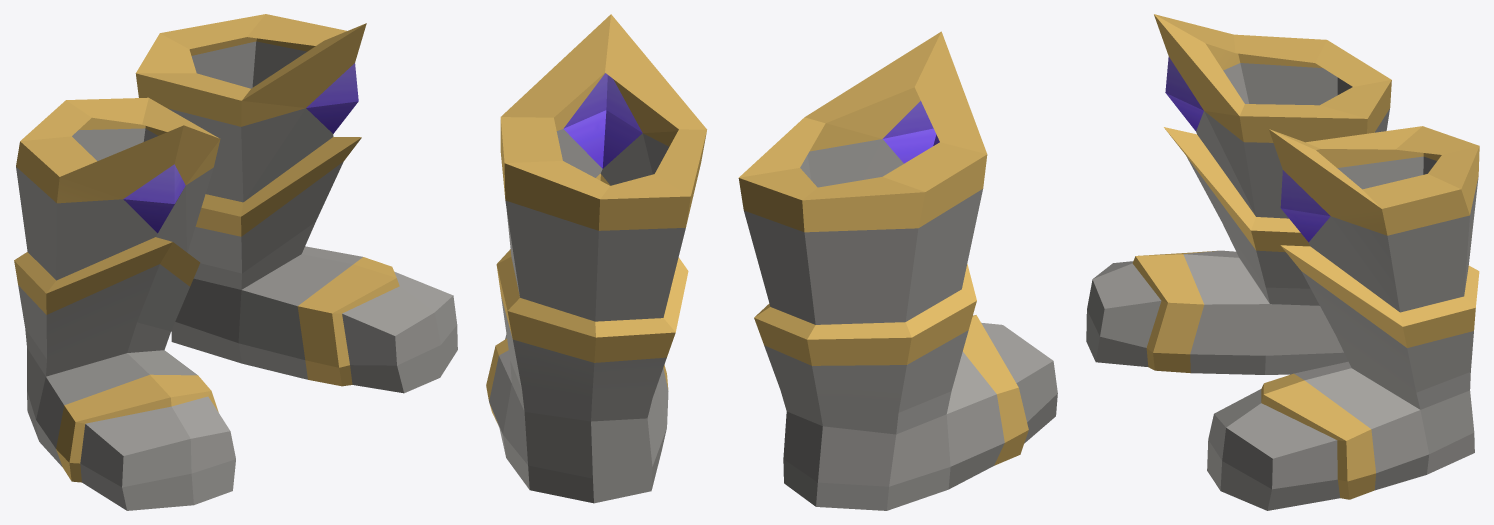
Rendered from bootsMagicDisplay.fbx.
3 views of the same model, side by side, from view 1: azimuth 30°, elevation 25°; view 2: azimuth 150°, elevation 25°; view 3: azimuth 270°, elevation 25° (orthographic). The views are drawn at different scales.
Visible parts, largest first — view 1: bootsMagicDisplay; view 2: bootsMagicDisplay; view 3: bootsMagicDisplay.
Part boxes in pixels (box(x1,y1,x2,y2)): bootsMagicDisplay: box(14, 14, 457, 510); bootsMagicDisplay: box(486, 14, 1057, 510); bootsMagicDisplay: box(1086, 14, 1479, 510).
Size of the model in its own units: 1.55 by 1.2 by 1.26.
